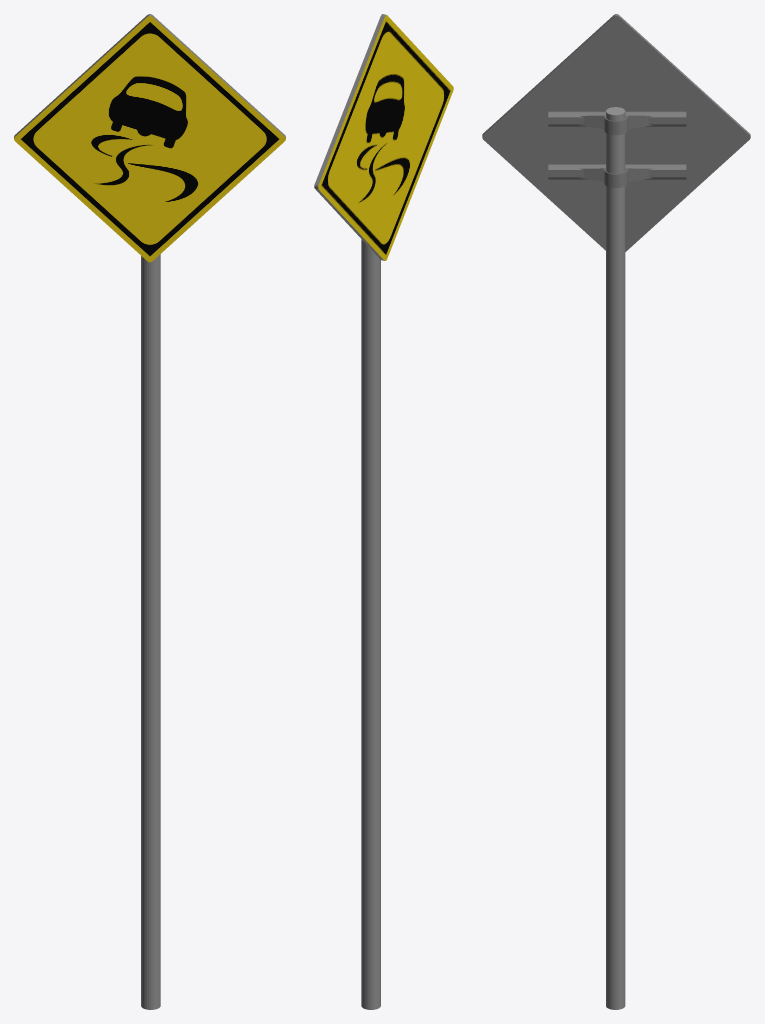
3 renders of one model, left to right at view 1: azimuth 90°, elevation 25°; view 2: azimuth 150°, elevation 25°; view 3: azimuth 270°, elevation 25°, orthographic.
Parts seen in each view (by area): view 1: 013, Prop; view 2: 013, Prop; view 3: 013, Prop.
Part boxes in pixels (box(x1,y1,x2,y2)): 013: box(14, 14, 285, 262); Prop: box(141, 254, 160, 1009); 013: box(314, 14, 453, 260); Prop: box(361, 239, 380, 1009); 013: box(482, 14, 750, 251); Prop: box(548, 107, 686, 1009).
Bounding box in the file's own units: 6.76 × 259 × 63.95.
